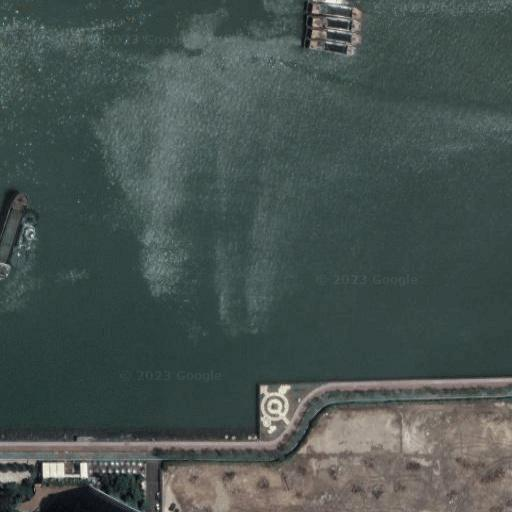building: (36, 457, 65, 477)
